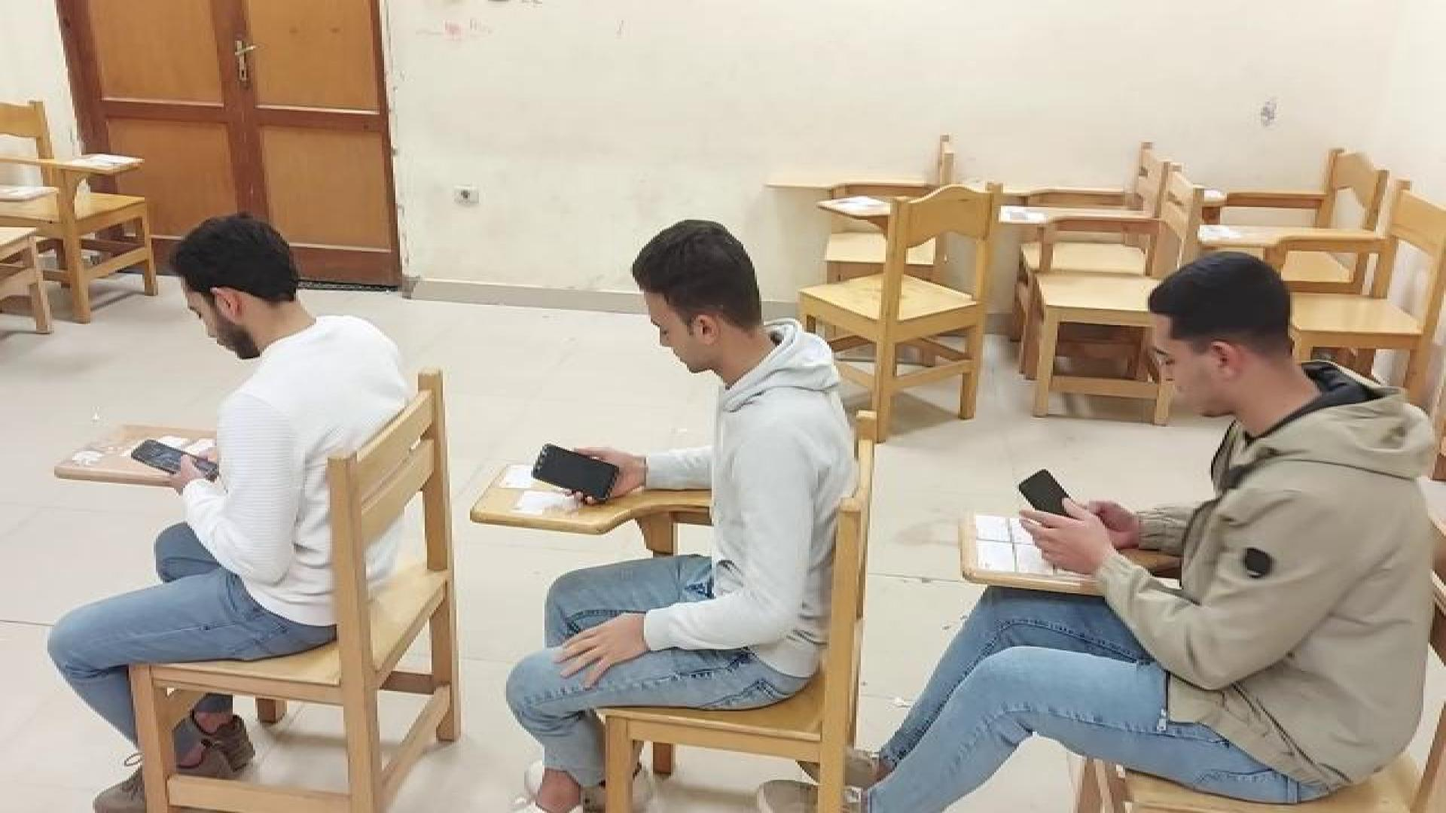phone: (529, 445, 619, 502), (1013, 466, 1081, 532), (125, 438, 220, 484)
